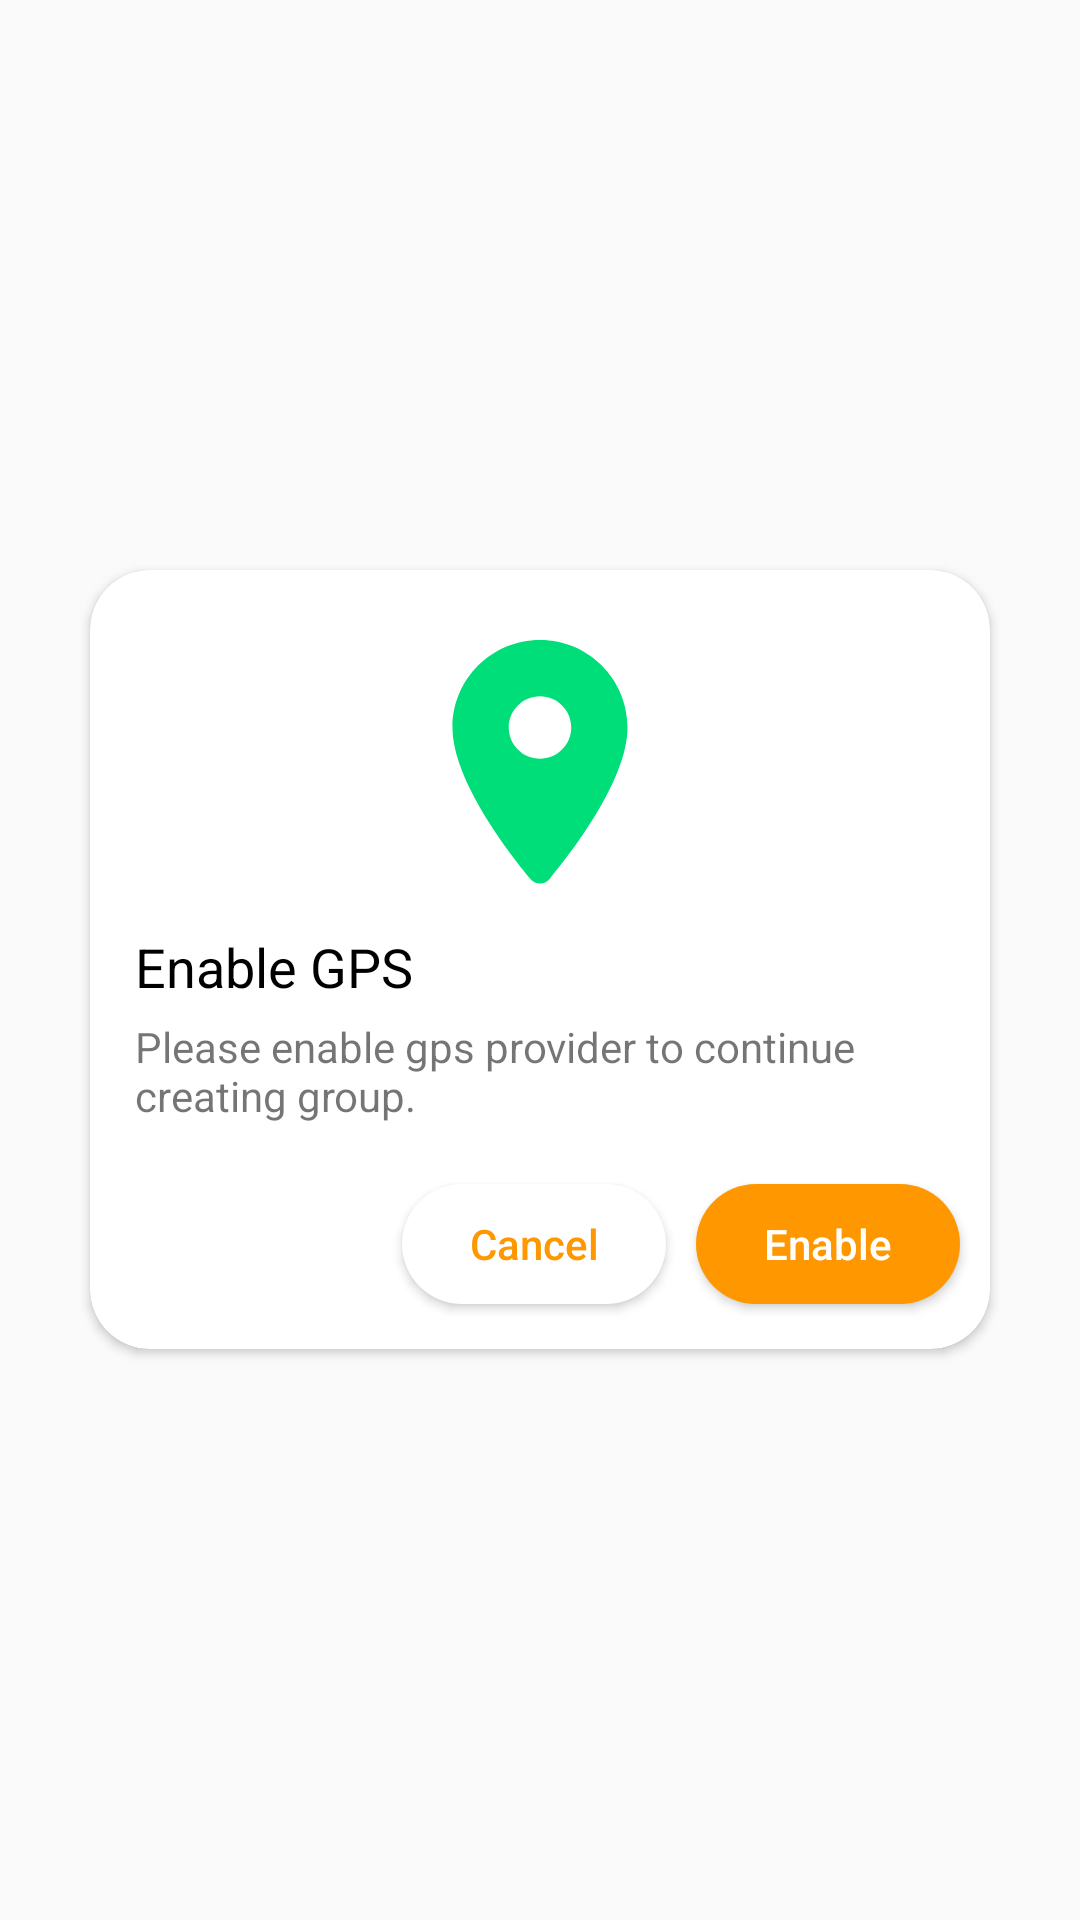

Locate icon controls on the screen. Image size 1080px×1920px, boxes as detection(x1, y1, x2, y2).
location on: detection(452, 640, 628, 884)
